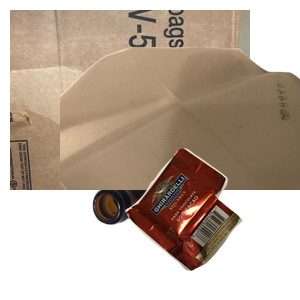cardboard: (10, 10, 250, 190)
glass: (90, 148, 300, 300)
plastic: (60, 44, 300, 224)
trash: (123, 145, 300, 300)
